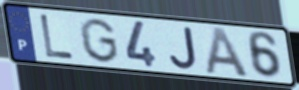4: (123, 19, 161, 70)
6: (246, 30, 284, 81)
A: (204, 26, 252, 79)
G: (77, 17, 121, 65)
J: (167, 25, 199, 72)
L: (38, 12, 77, 61)
